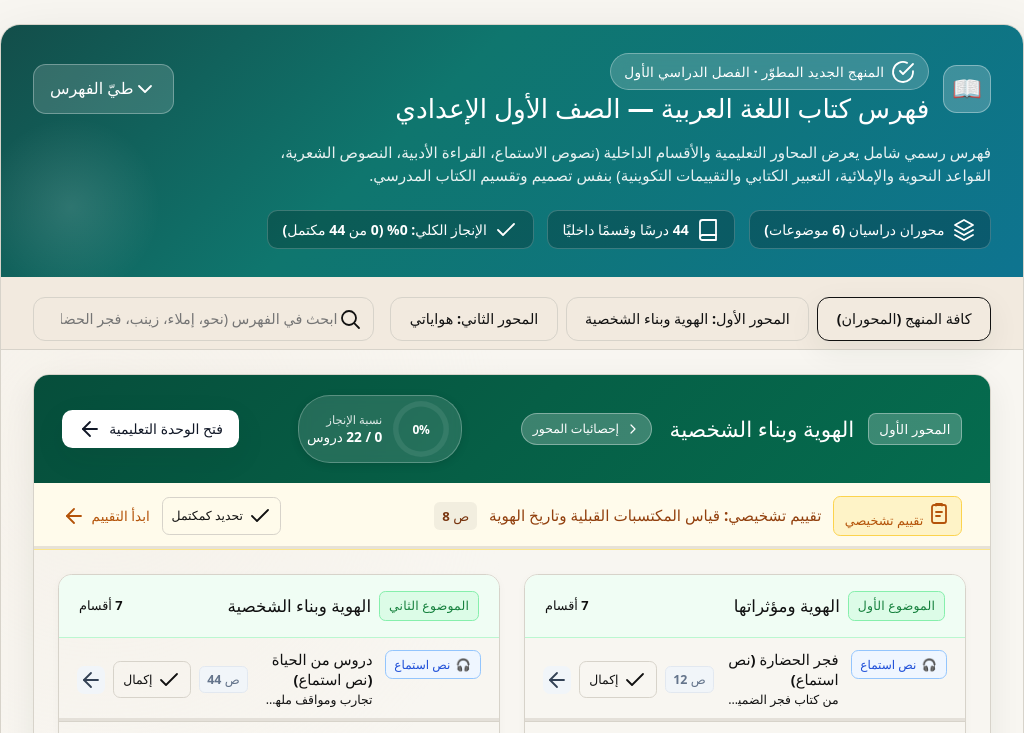
Test: الرأس القابل للتوسيع وإحصائيات المحور (.prep1-theme-header expandable) › يغلق القائمة المنسدلة عند النقر مرة ثانية
Note: النقر الأول للفتح
Click the button with aria-label "انقر لعرض إحصائيات سريعة عن دروس المحور" at (915, 429), box [34,375,990,483]
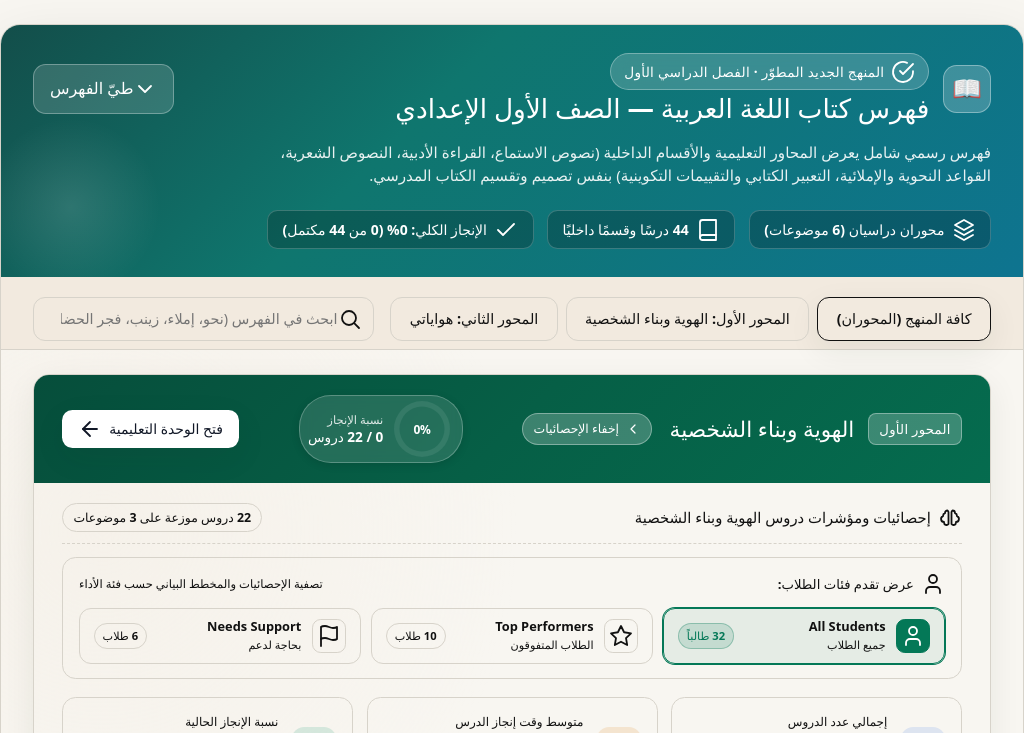
Note: النقر الثاني للإغلاق
Click the button with aria-label "انقر لإخفاء إحصائيات المحور" at (915, 429), box [34,375,990,483]
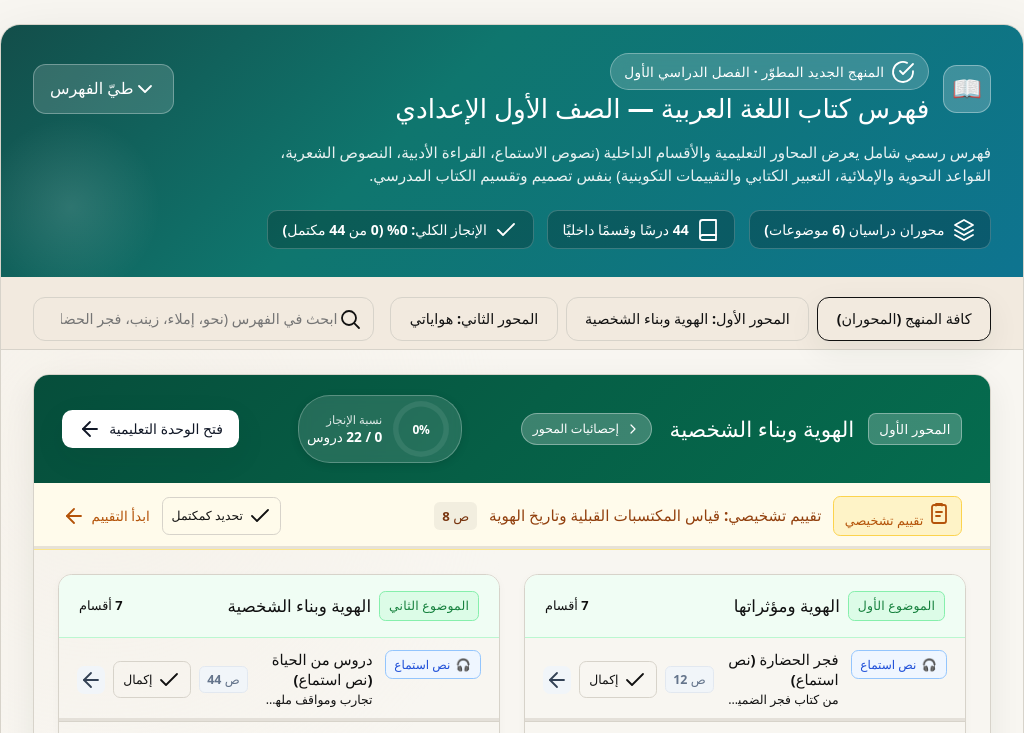
Check: the button with aria-label "انقر لعرض إحصائيات سريعة عن دروس المحور" is collapsed, box [34,375,990,483]
